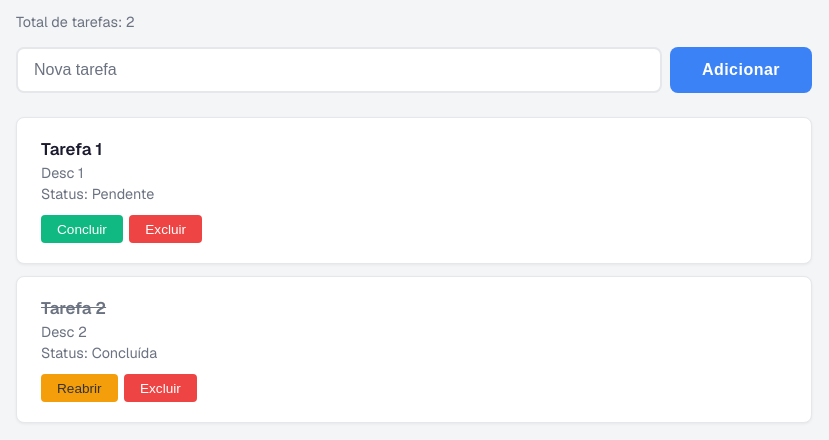
Test: ListaDeTarefas › exclui uma tarefa
Click the button "Excluir" below "Tarefa 1".
click(166, 229)  # box [129,215,202,243]
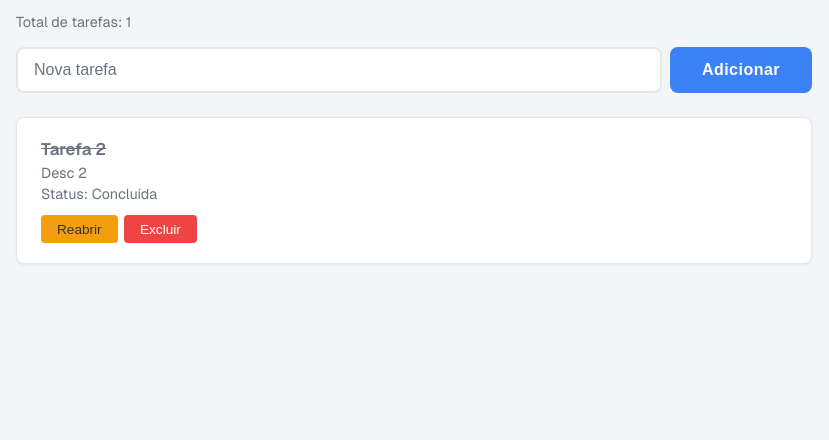
Expected: the heading "Tarefa 1" is gone
